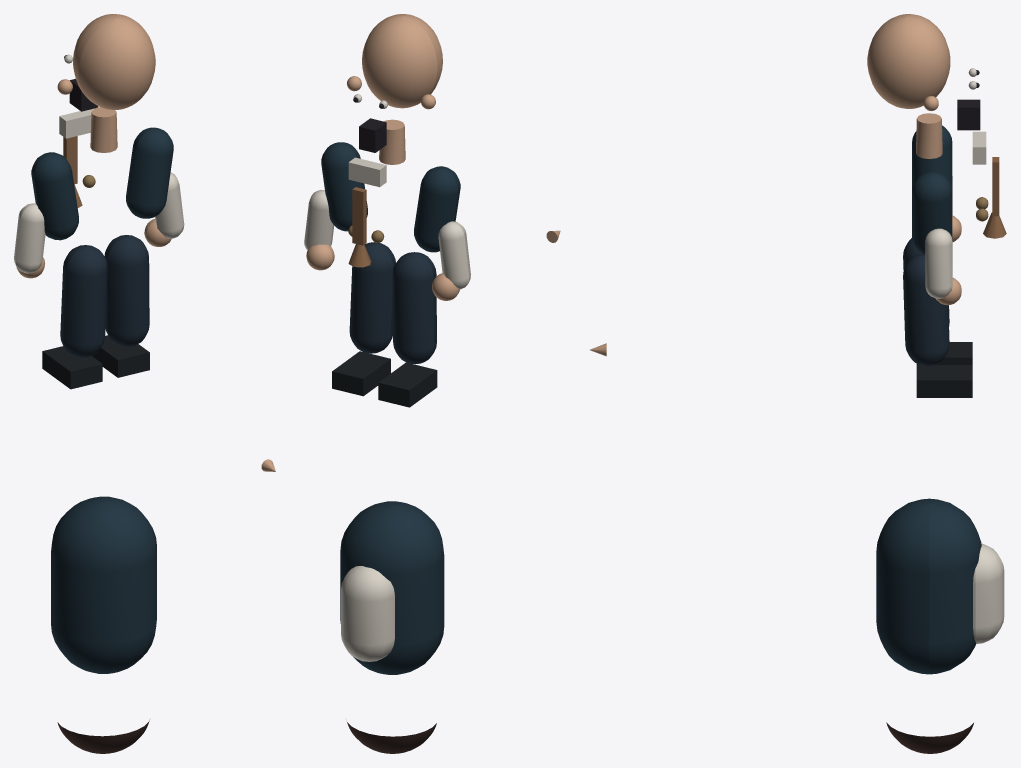
File: traders.glb
The picture shows the model from 3 angles, left to right: view 1: azimuth 30°, elevation 25°; view 2: azimuth 150°, elevation 25°; view 3: azimuth 270°, elevation 25°; orthographic projection. The views are drawn at different scales.
Visible parts, largest first — view 1: Body (×2), Arm_L, Arm_R; view 2: Body (×2), Arm_L, Arm_R; view 3: Body (×2), Arm_R, Arm_L.
Part boxes in pixels (bbox=[...]): Body (×2): bbox=[42, 14, 275, 753]; Arm_L: bbox=[14, 152, 78, 278]; Arm_R: bbox=[126, 127, 184, 246]; Body (×2): bbox=[332, 14, 560, 753]; Arm_L: bbox=[414, 166, 470, 300]; Arm_R: bbox=[304, 142, 367, 270]; Body (×2): bbox=[589, 14, 1006, 753]; Arm_R: bbox=[912, 171, 961, 305]; Arm_L: bbox=[912, 125, 961, 241].
Bounding box in the file's own units: 0.9868 × 4.19 × 2.17.
